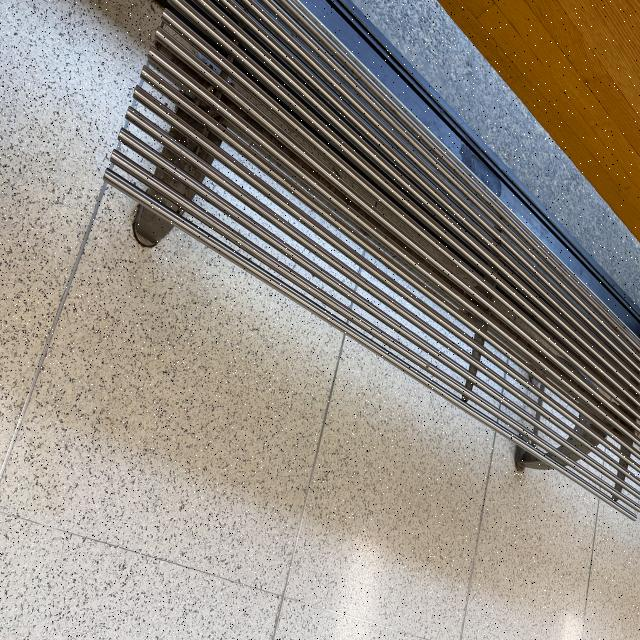Bench: (160, 3, 541, 640)
